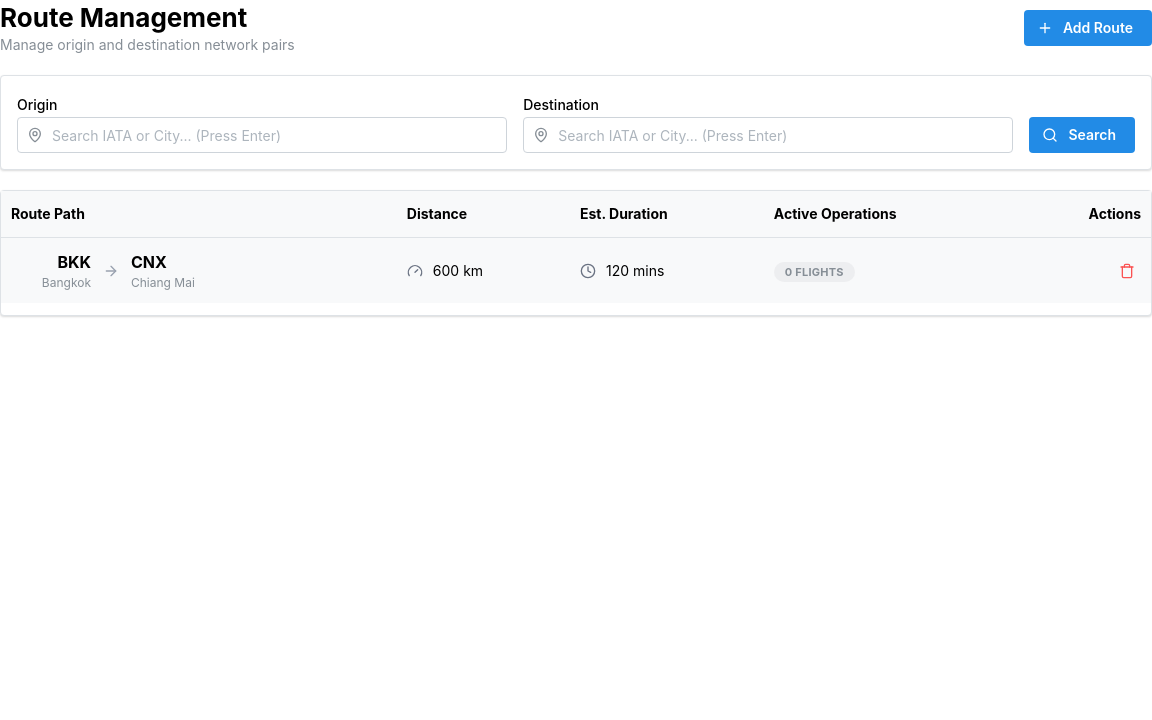
RouteManagement Component › opens delete confirmation modal when trash icon is clicked
Note: Action icons are at the end of the row
What coordinates should you click on to do the following:
click the button without text in the row of "BKK"
I would click on:
 (1127, 271)
Its box is top-left (1113, 257), bottom-right (1141, 285).
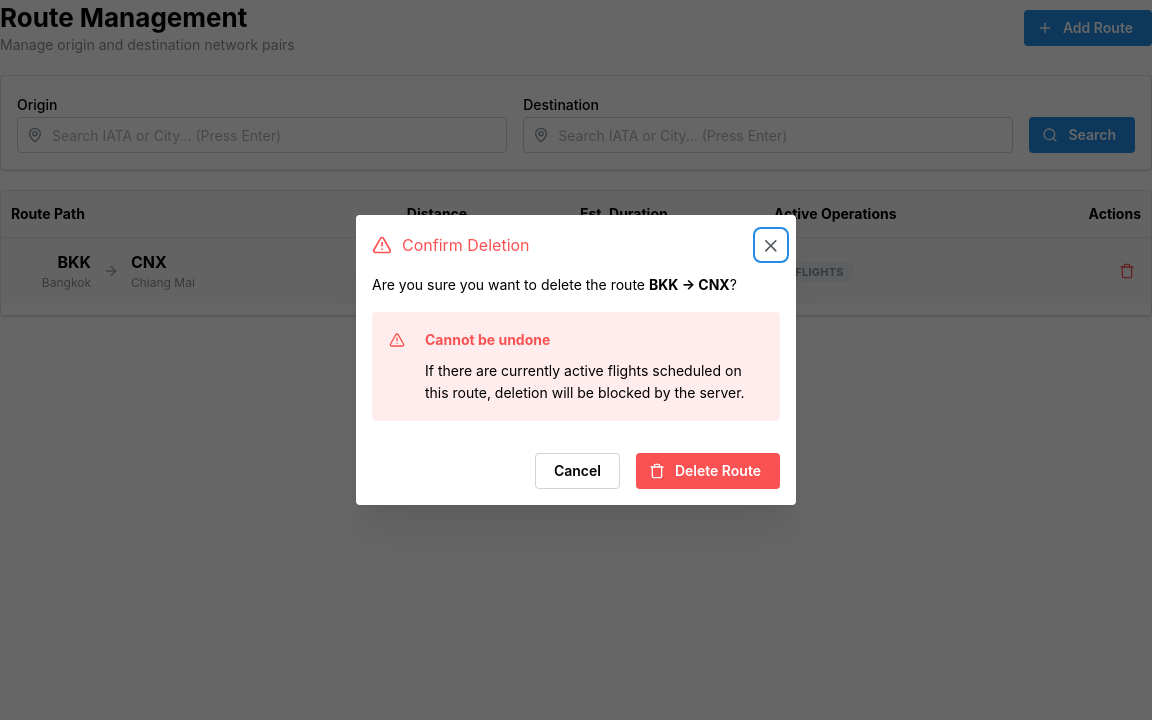
Result: the text "Confirm Deletion" is shown at top-left (372, 235), bottom-right (530, 255)
Result: the text "BKK → CNX" is shown at top-left (649, 276), bottom-right (730, 293)
